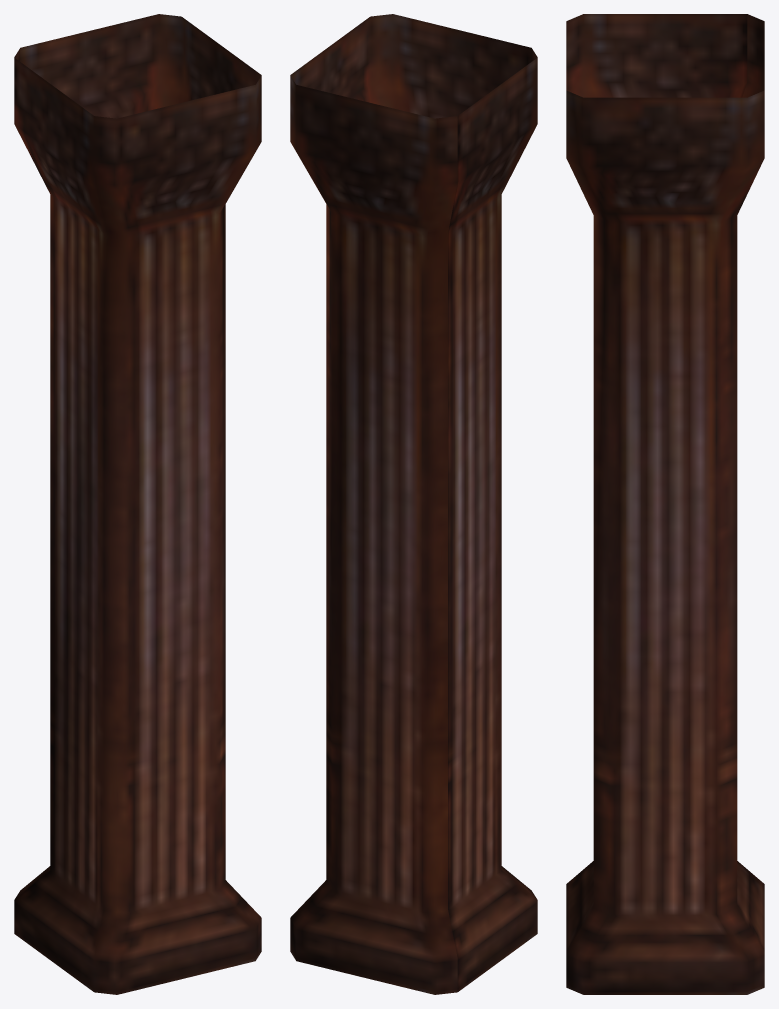
File: Derek_Willard.fbx
3 renders of one model, left to right at view 1: azimuth 30°, elevation 25°; view 2: azimuth 150°, elevation 25°; view 3: azimuth 270°, elevation 25°, orthographic. The views are drawn at different scales.
Visible parts, largest first — view 1: Willar; view 2: Willar; view 3: Willar.
Part boxes in pixels (x1,y1,x2,y2): Willar: (14,14,261,994); Willar: (290,14,537,994); Willar: (566,14,764,994).
Bounding box in the file's own units: 60.96 × 305 × 60.96.
